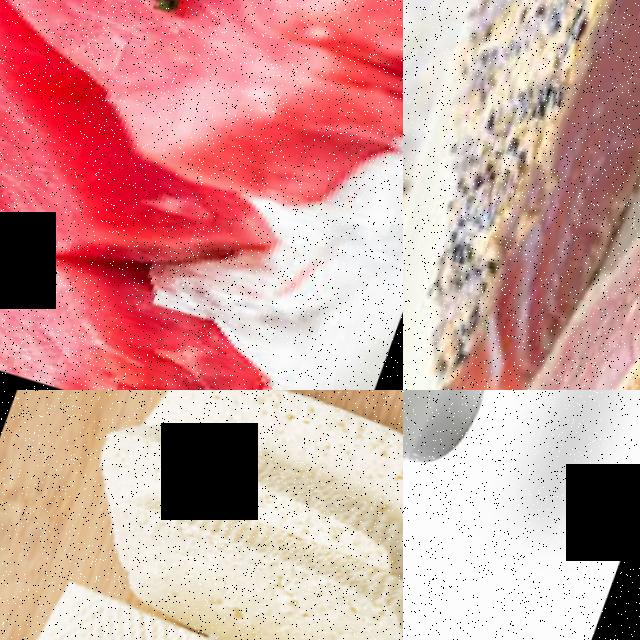tofu: (119, 390, 403, 569), (93, 483, 403, 640), (0, 578, 403, 640)
tuna: (415, 0, 640, 390)
